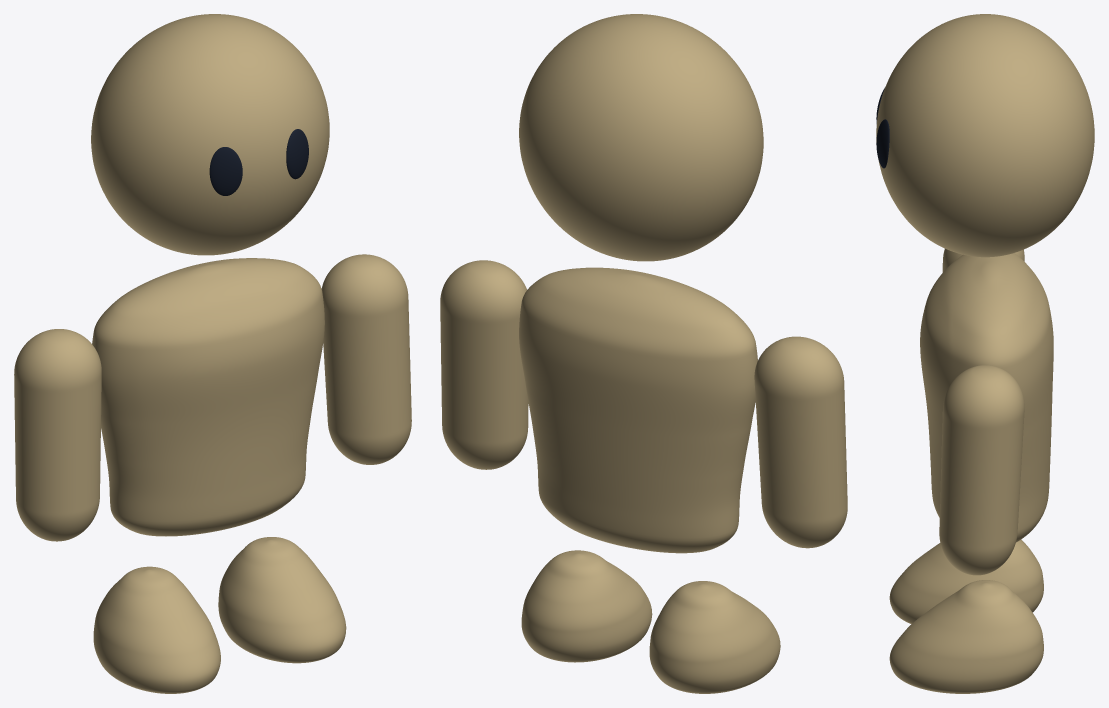
Rendered from Masculine-skin1.glb.
3 renders of one model, left to right at view 1: azimuth 30°, elevation 25°; view 2: azimuth 150°, elevation 25°; view 3: azimuth 270°, elevation 25°, orthographic. The views are drawn at different scales.
Parts seen in each view (by area): view 1: Floating torso, Round head, Left floating arm, Right floating arm, Left rounded foot, Right rounded foot, Left optional eye, Right optional eye; view 2: Floating torso, Round head, Left floating arm, Right floating arm, Left rounded foot, Right rounded foot; view 3: Round head, Floating torso, Right floating arm, Right rounded foot, Left rounded foot, Right optional eye.
Part boxes in pixels (x1,y1,x2,y2): Floating torso: [92, 258, 324, 536]; Round head: [91, 14, 329, 255]; Left floating arm: [14, 329, 101, 541]; Right floating arm: [321, 254, 411, 464]; Left rounded foot: [93, 566, 220, 693]; Right rounded foot: [218, 537, 346, 663]; Left optional eye: [209, 147, 242, 195]; Right optional eye: [286, 129, 308, 179]; Floating torso: [519, 267, 757, 553]; Round head: [519, 14, 763, 261]; Left floating arm: [754, 336, 847, 548]; Right floating arm: [440, 260, 528, 469]; Left rounded foot: [649, 581, 780, 693]; Right rounded foot: [521, 550, 652, 662]; Round head: [876, 14, 1094, 257]; Floating torso: [920, 253, 1053, 542]; Right floating arm: [939, 365, 1024, 575]; Right rounded foot: [889, 580, 1043, 693]; Left rounded foot: [889, 539, 1043, 624]; Right optional eye: [876, 119, 889, 168].
Bounding box in the file's own units: 1.79 × 2.78 × 0.88.
